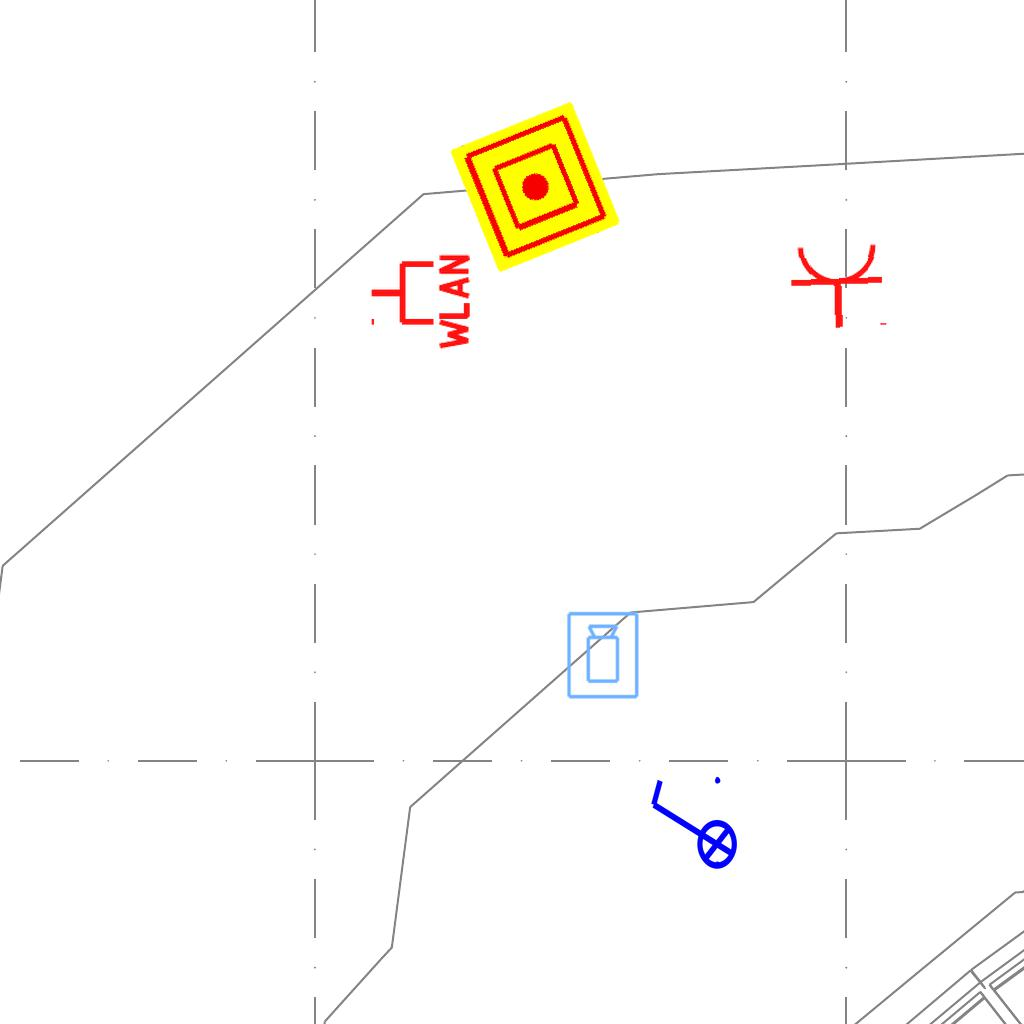Ausschalter_beleuchtet: (643, 771, 739, 883)
KFO_Kamera_mit_Festobjektiv: (565, 610, 642, 701)
NAM-Nichtautomatischer_Melder: (449, 101, 621, 273)
Schukosteckdose_einfach: (788, 240, 891, 332)
WLAN: (367, 250, 472, 354)
